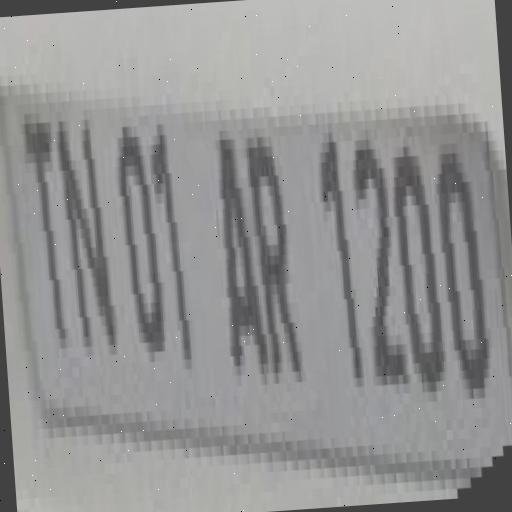number plate: (0, 0, 502, 509)
